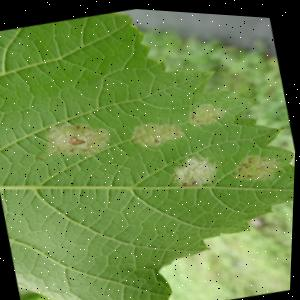Folha: (0, 0, 300, 300)
Fungo: (38, 111, 114, 165), (229, 143, 285, 186), (128, 112, 187, 152), (167, 148, 222, 190), (186, 95, 229, 128), (67, 133, 86, 146)
